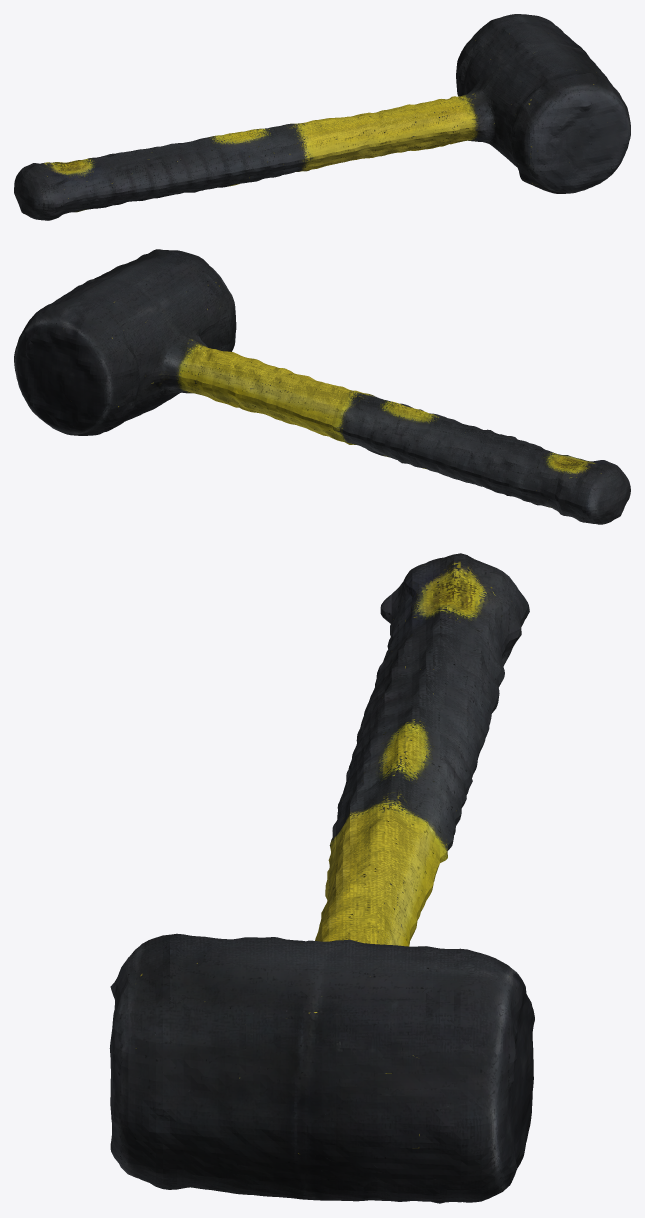
3 renders of one model, top to bottom at view 1: azimuth 30°, elevation 25°; view 2: azimuth 150°, elevation 25°; view 3: azimuth 270°, elevation 25°, orthographic. The views are drawn at different scales.
Size of the model in its own units: 0.1474 by 0.0303 by 0.0491.
1 material, 1 textured.
